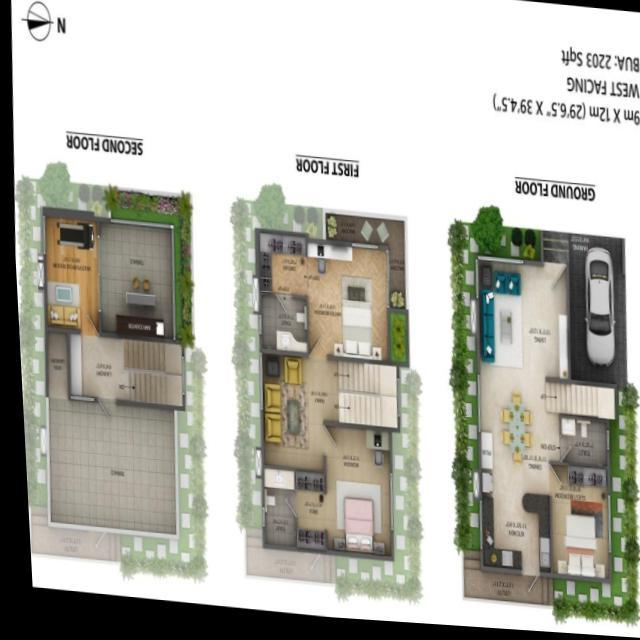Bedroom: (547, 466, 604, 578), (45, 225, 96, 342)
Bedroom with Toilet: (260, 427, 388, 561), (257, 236, 387, 367)
Dining: (498, 387, 530, 469)
Enterance-Foyer: (542, 250, 565, 293)
Kitchen: (478, 471, 546, 573)
Living: (477, 261, 565, 379), (261, 360, 312, 472)
Pooja: (477, 432, 490, 471)
Toilet: (260, 300, 304, 357), (260, 473, 291, 550), (557, 415, 603, 466)
